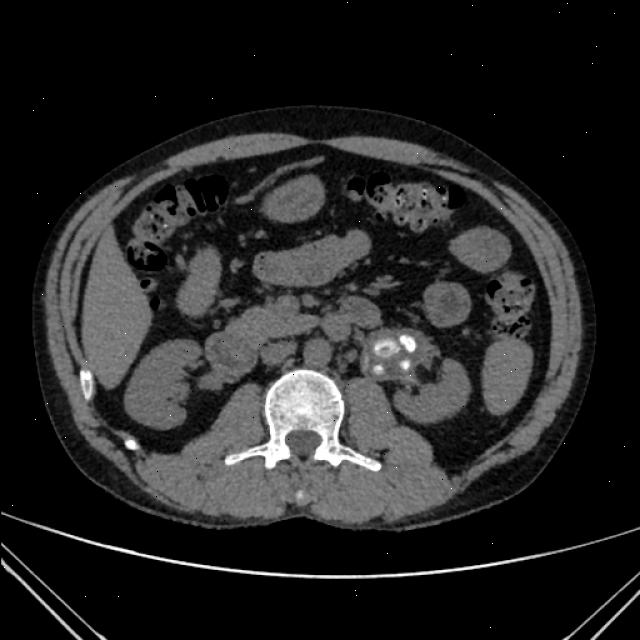kidneystone: (374, 339, 400, 357), (400, 336, 415, 349), (372, 364, 385, 376), (399, 361, 409, 369)
